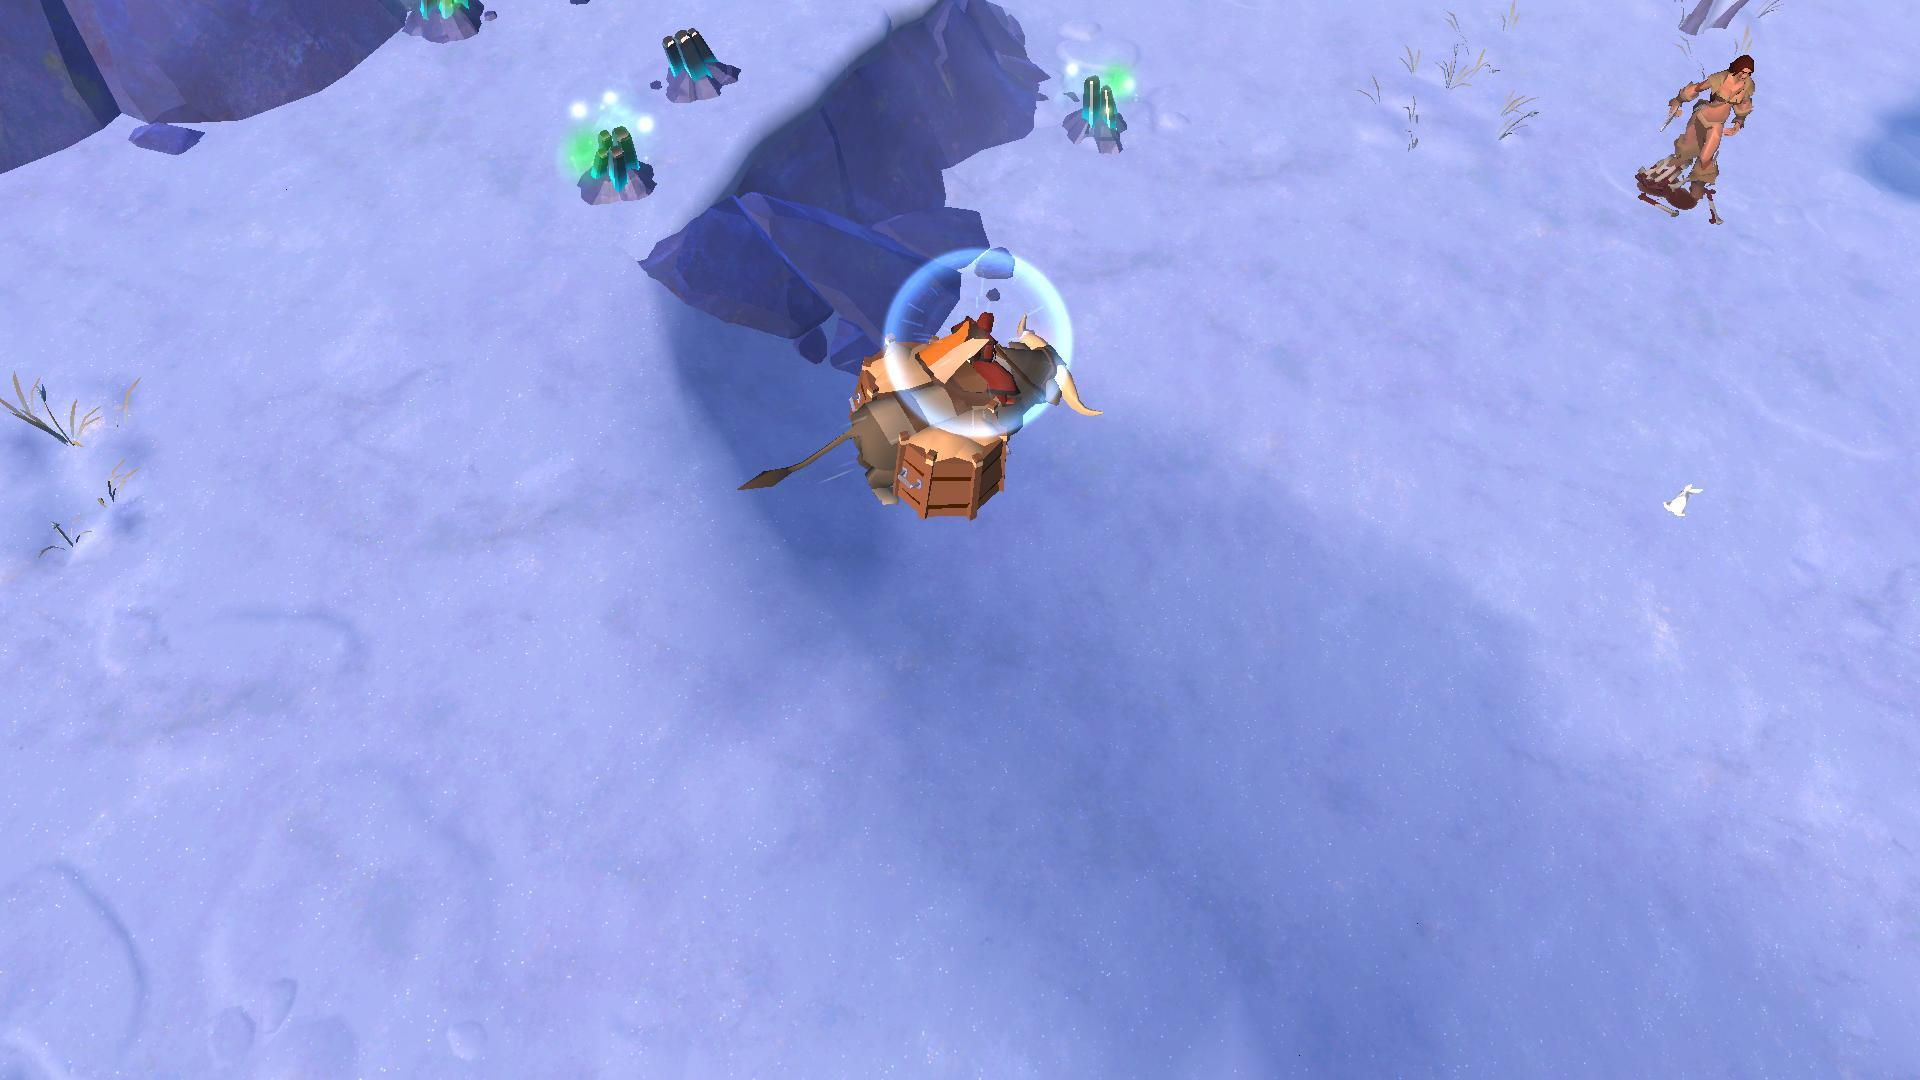enemy_factionKeeper: (1639, 47, 1764, 207)
ore_t4: (578, 115, 641, 195), (653, 21, 725, 84), (1072, 71, 1120, 144)
